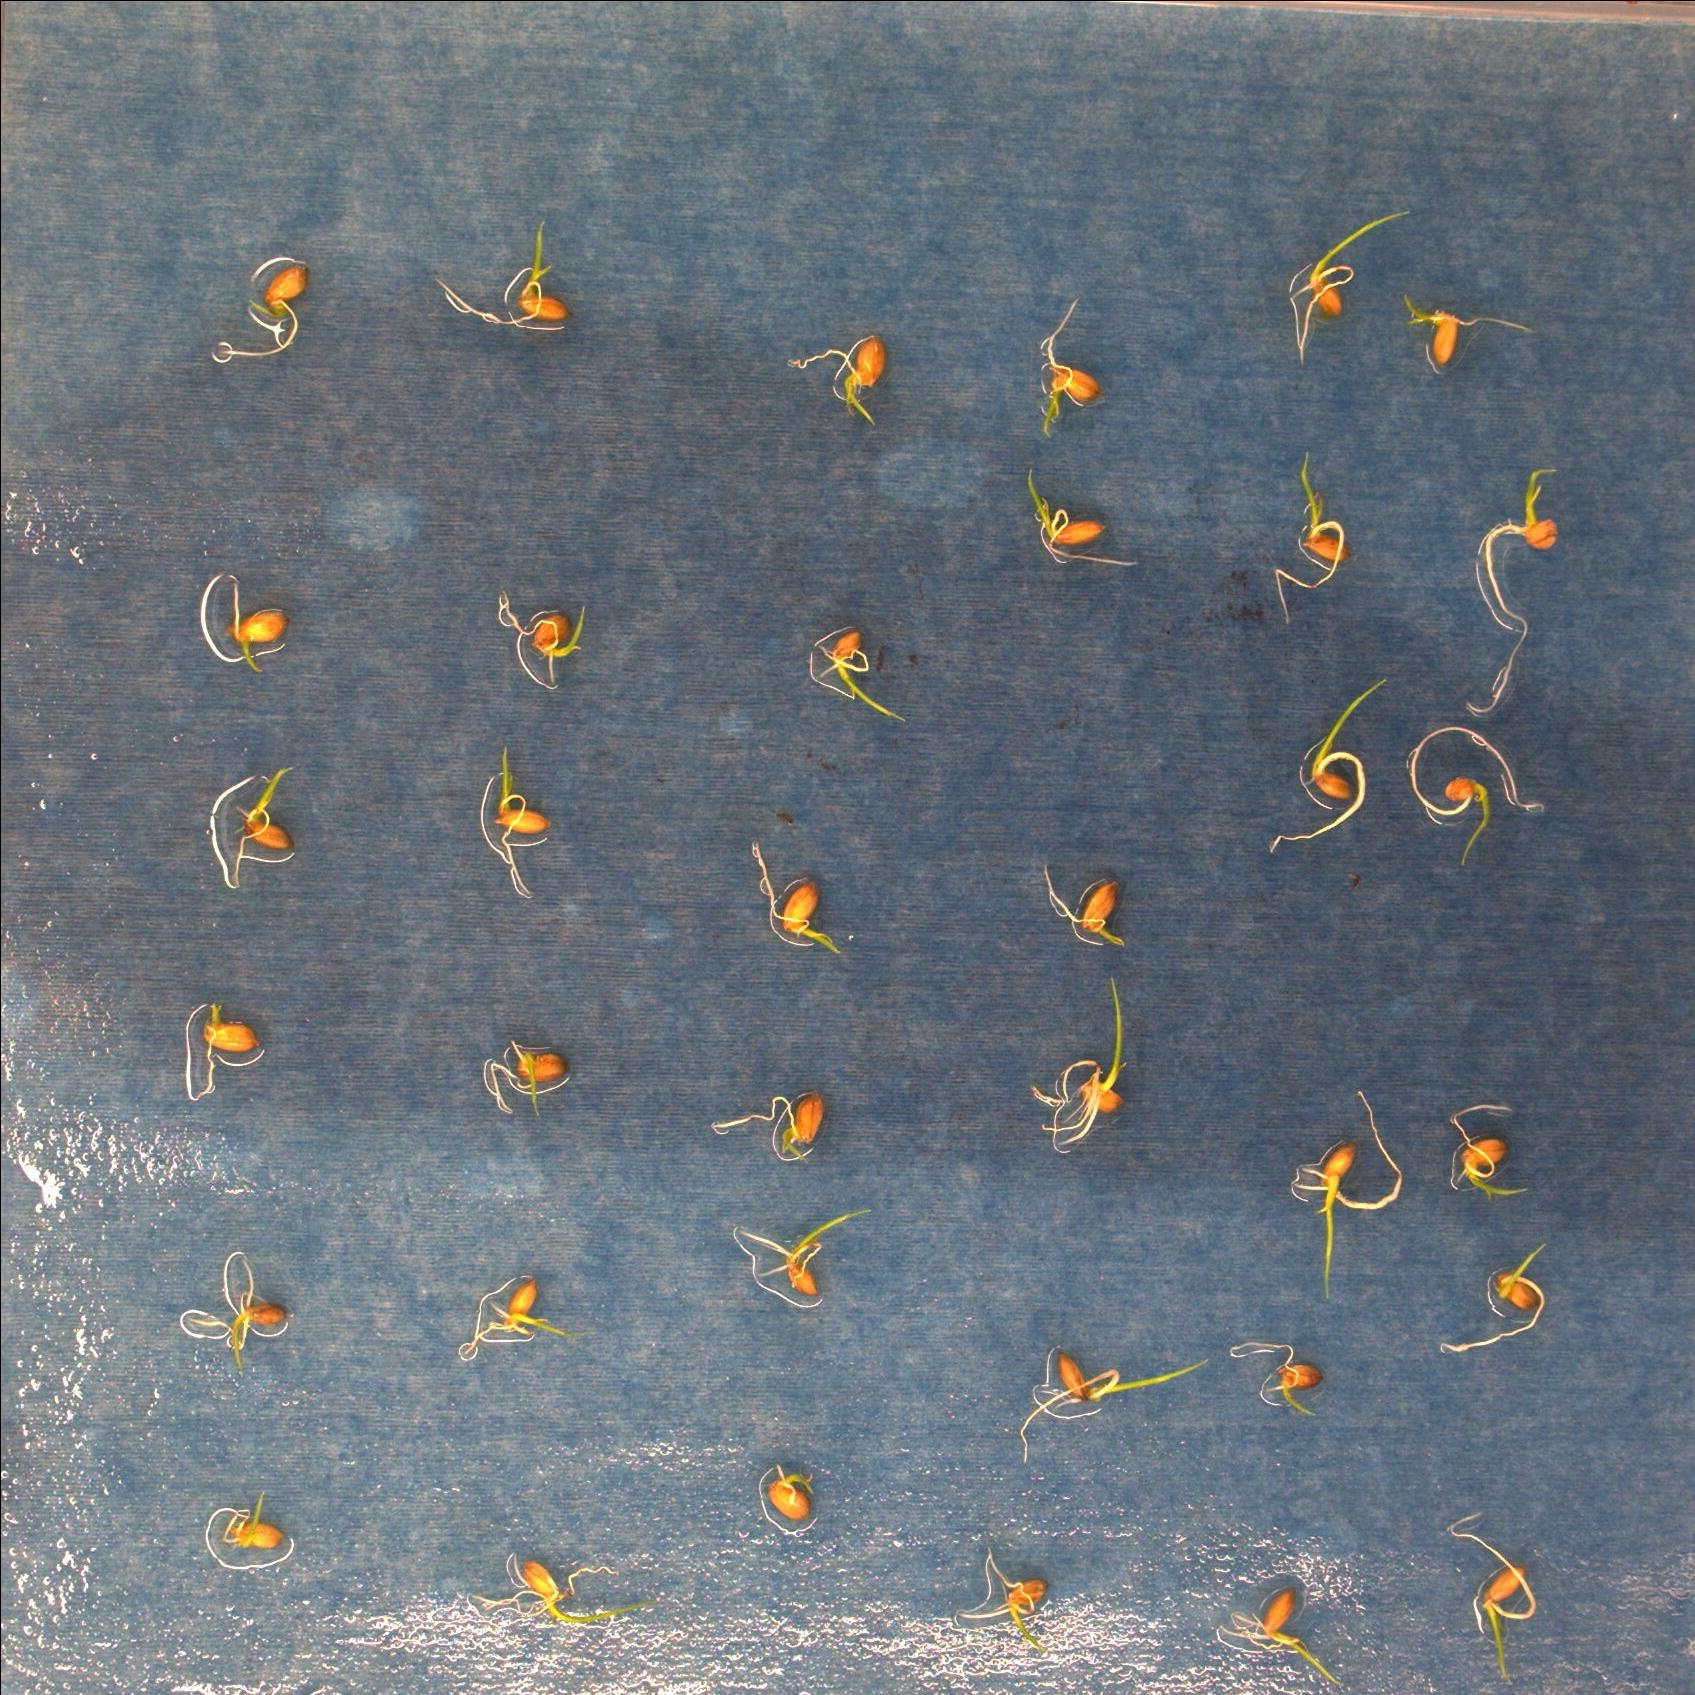sprout: (1293, 1087, 1405, 1298), (1465, 466, 1558, 714), (1018, 1346, 1211, 1464), (1270, 678, 1386, 854), (1411, 725, 1544, 866), (1290, 210, 1412, 363), (1031, 973, 1125, 1149), (1448, 1510, 1538, 1684), (435, 217, 573, 326), (1274, 450, 1354, 621), (1439, 1242, 1551, 1357), (472, 1557, 660, 1625), (1220, 1586, 1346, 1686), (737, 1208, 872, 1298), (188, 1260, 290, 1374), (1026, 469, 1138, 567), (751, 840, 840, 955), (959, 1548, 1051, 1652), (1403, 293, 1534, 366), (789, 335, 888, 430), (494, 744, 553, 899), (1042, 296, 1105, 438), (711, 1091, 826, 1166), (818, 629, 906, 723), (463, 1277, 568, 1357), (501, 591, 585, 685), (225, 262, 307, 357), (1228, 1340, 1326, 1419), (1450, 1104, 1530, 1198), (1045, 861, 1130, 948), (234, 765, 293, 889), (197, 1004, 262, 1097), (490, 1040, 571, 1114), (228, 581, 290, 674), (224, 1490, 286, 1551), (767, 1464, 813, 1524)
